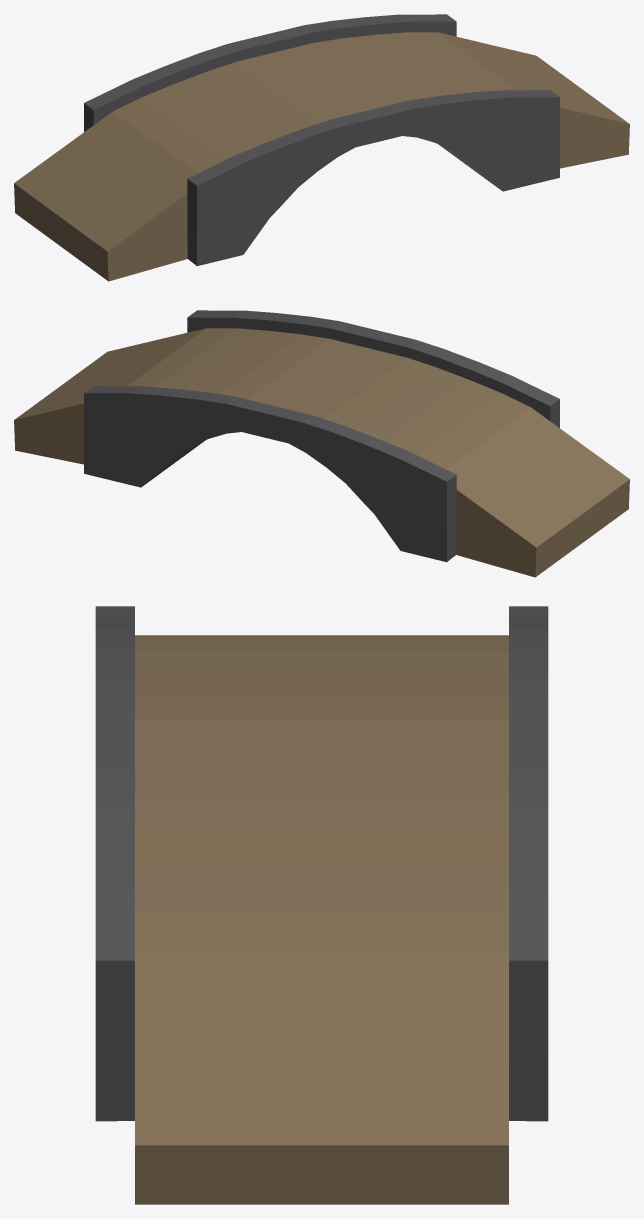
The model's file is Target_Bridge_1.fbx.
3 renders of one model, top to bottom at view 1: azimuth 30°, elevation 25°; view 2: azimuth 150°, elevation 25°; view 3: azimuth 270°, elevation 25°, orthographic. The views are drawn at different scales.
Parts seen in each view (by area): view 1: pCube1; view 2: pCube1; view 3: pCube1.
Part boxes in pixels (x1,y1,x2,y2): pCube1: (14, 14, 629, 281); pCube1: (14, 310, 629, 577); pCube1: (95, 606, 548, 1204).
Size of the model in its own units: 63.38 by 12.5 by 23.77.
